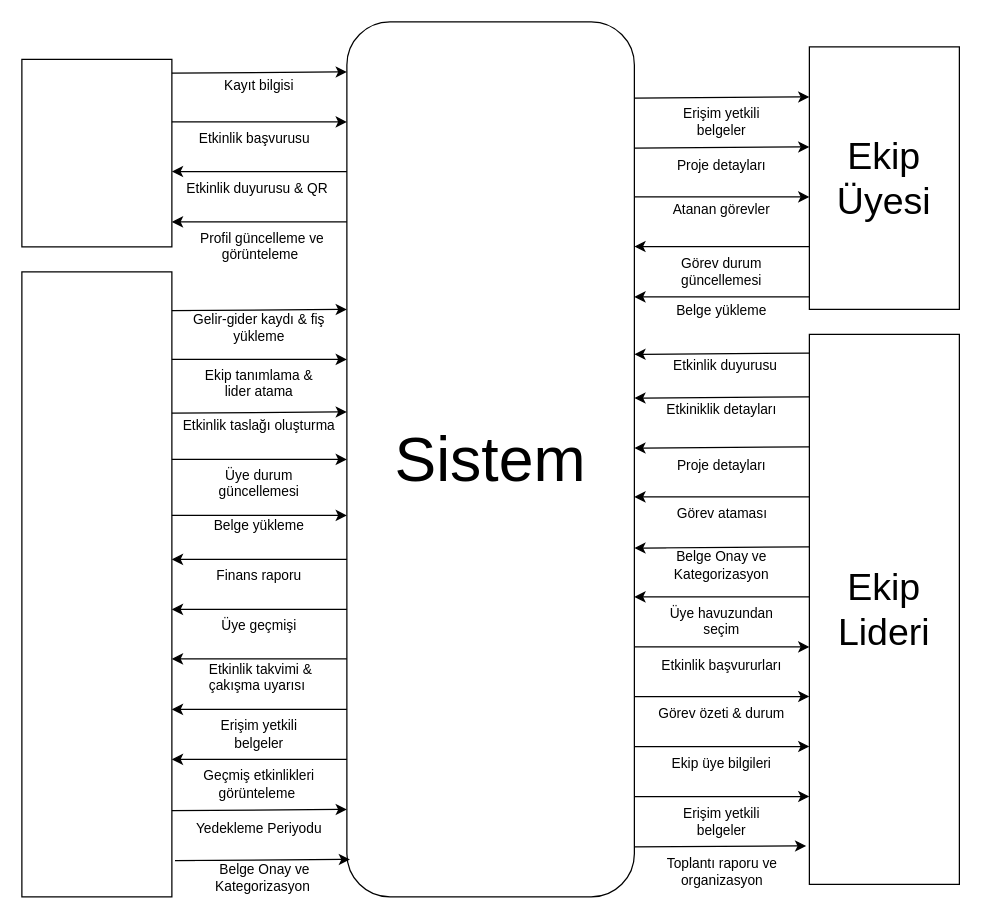
Image size: 981x919. Some labels were removed from this diagram. The centre of each missing label's shape, as x and y in pixels:
"Kulüp Yöneticsi" belongs at point 96,584.
"Üye" belongs at point 96,152.
